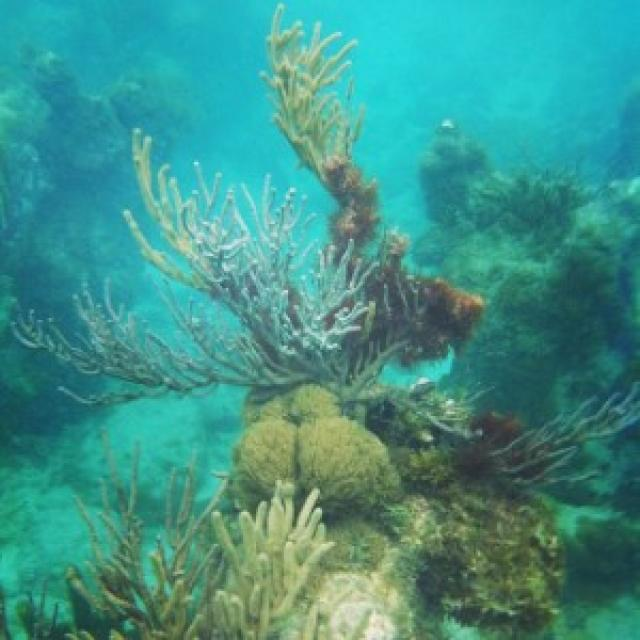Healthy: (16, 5, 481, 400), (69, 472, 334, 639), (394, 451, 562, 635), (432, 387, 639, 487), (236, 385, 398, 500), (280, 524, 415, 639)
